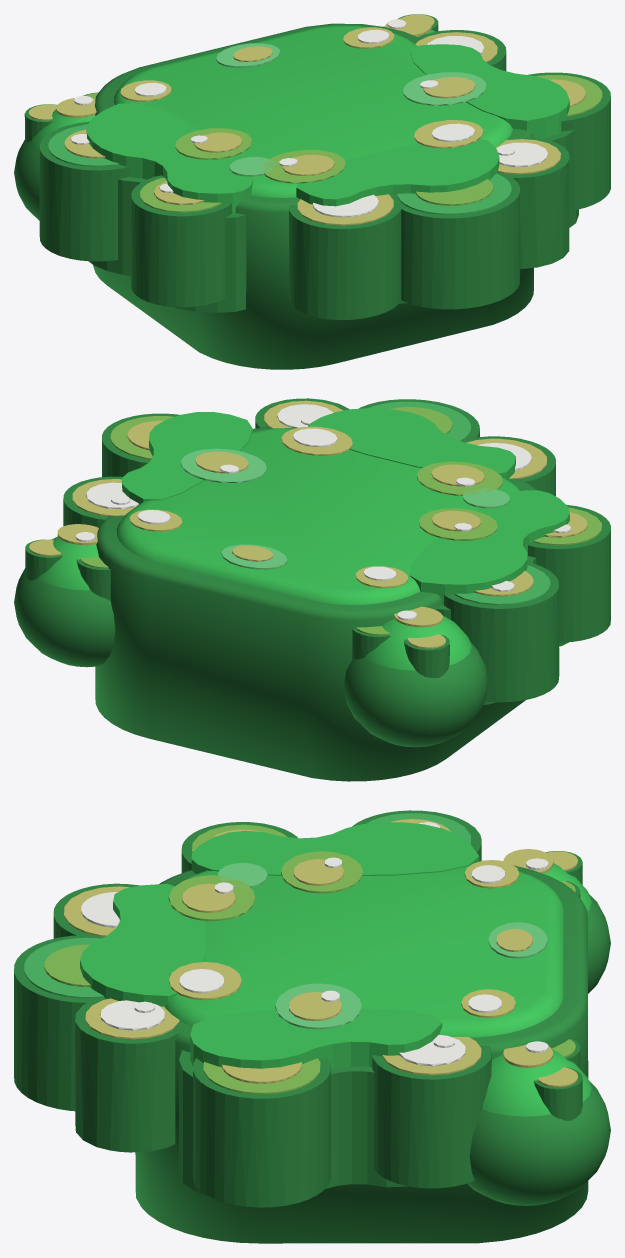
Rendered from body_bolha_verde.fbx.
3 views of the same model, one above another, from view 1: azimuth 30°, elevation 25°; view 2: azimuth 150°, elevation 25°; view 3: azimuth 270°, elevation 25° (orthographic). The views are drawn at different scales.
Parts seen in each view (by area): view 1: body_bolha_verde_corpo, body_bolha_verde_mao_esq, body_bolha_verde_mao; view 2: body_bolha_verde_corpo, body_bolha_verde_mao_esq, body_bolha_verde_mao; view 3: body_bolha_verde_corpo, body_bolha_verde_mao, body_bolha_verde_mao_esq.
Boxes of the visible parts, left/top/right/bottom form: body_bolha_verde_corpo: left=39, top=23, right=610, bottom=369; body_bolha_verde_mao_esq: left=14, top=92, right=98, bottom=220; body_bolha_verde_mao: left=383, top=14, right=438, bottom=36; body_bolha_verde_corpo: left=63, top=398, right=610, bottom=781; body_bolha_verde_mao_esq: left=343, top=606, right=488, bottom=747; body_bolha_verde_mao: left=14, top=524, right=115, bottom=667; body_bolha_verde_corpo: left=14, top=810, right=588, bottom=1243; body_bolha_verde_mao: left=467, top=1039, right=610, bottom=1205; body_bolha_verde_mao_esq: left=503, top=849, right=610, bottom=993.
Size of the model in its own units: 6.02 by 2.07 by 5.27.
Materials: 1 (1 with a texture image).
